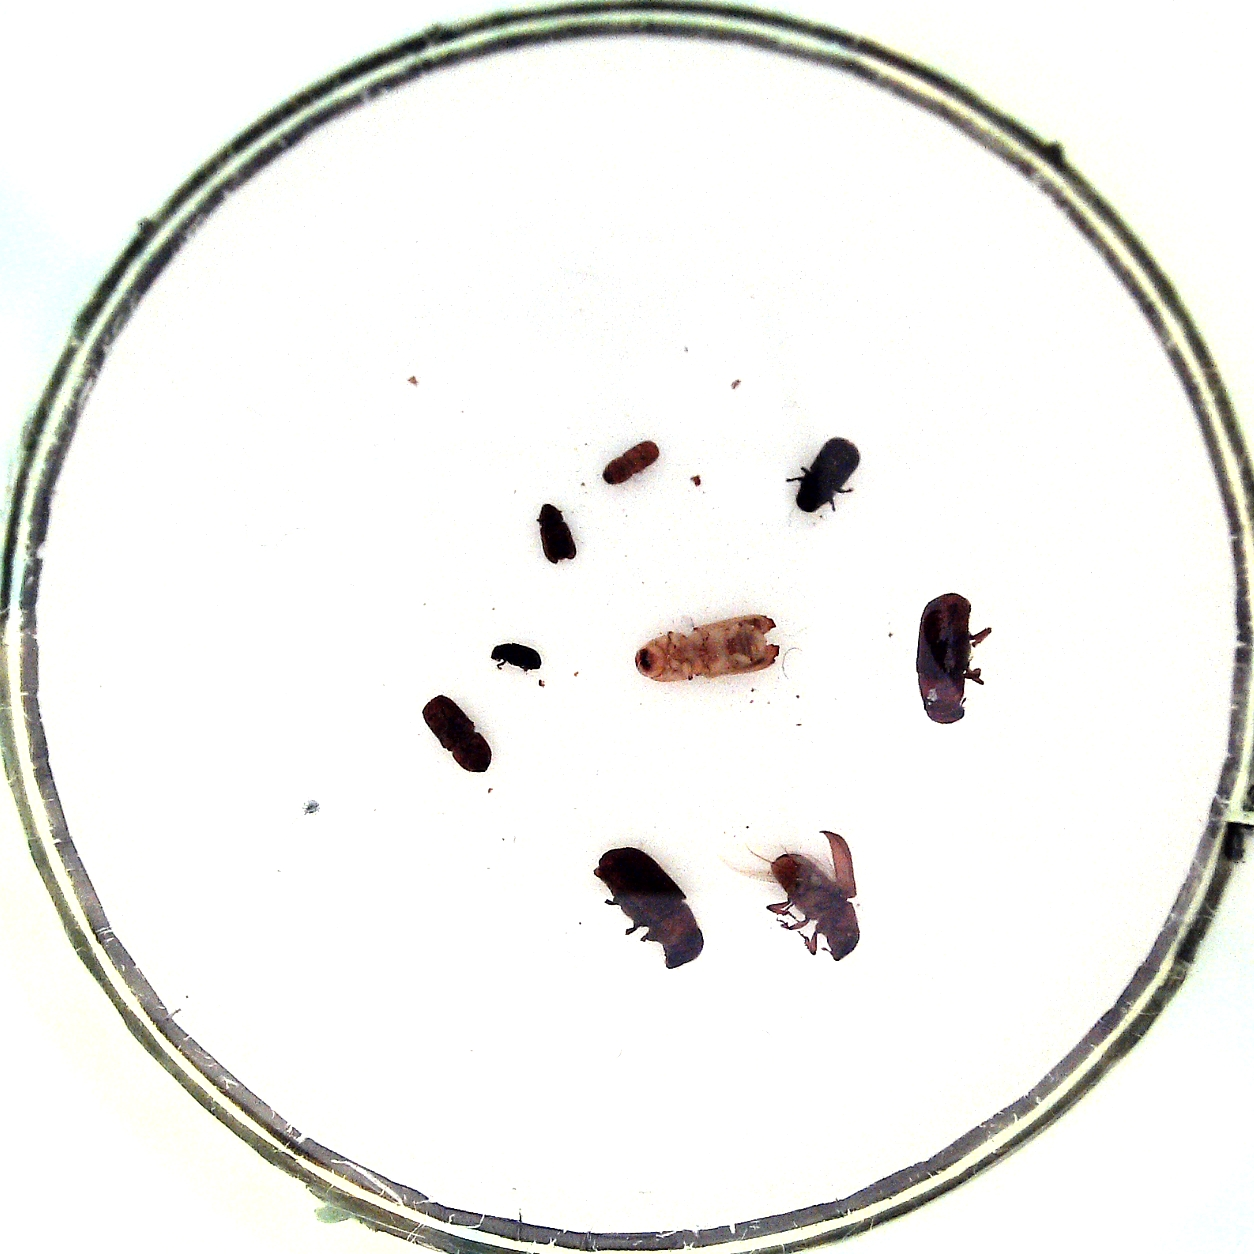Boerner: (635, 616, 779, 682)
Leconte: (596, 847, 705, 968), (771, 853, 860, 961), (915, 593, 972, 723)
acuminatus: (491, 644, 542, 669)
armandi: (796, 438, 860, 513)
coleoptera: (603, 441, 659, 485), (537, 503, 576, 565)
linnaeus: (421, 695, 491, 772)
